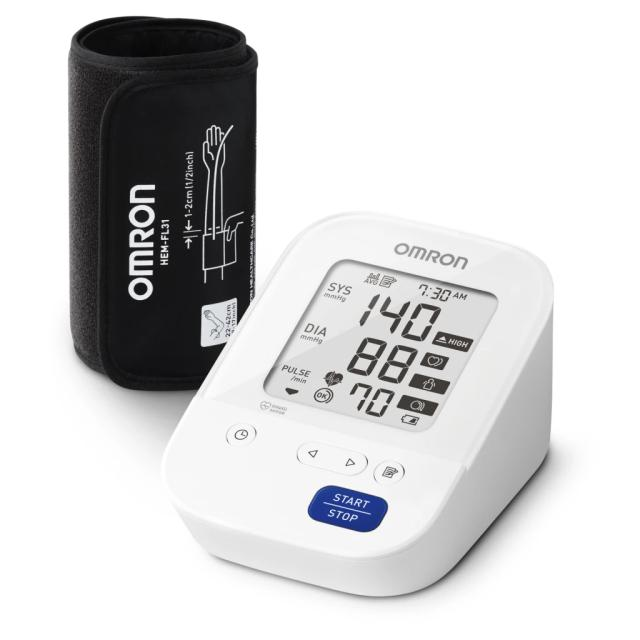dia: (326, 325, 425, 397)
pul: (332, 374, 402, 428)
ssd: (264, 251, 496, 441)
sys: (347, 283, 445, 348)
